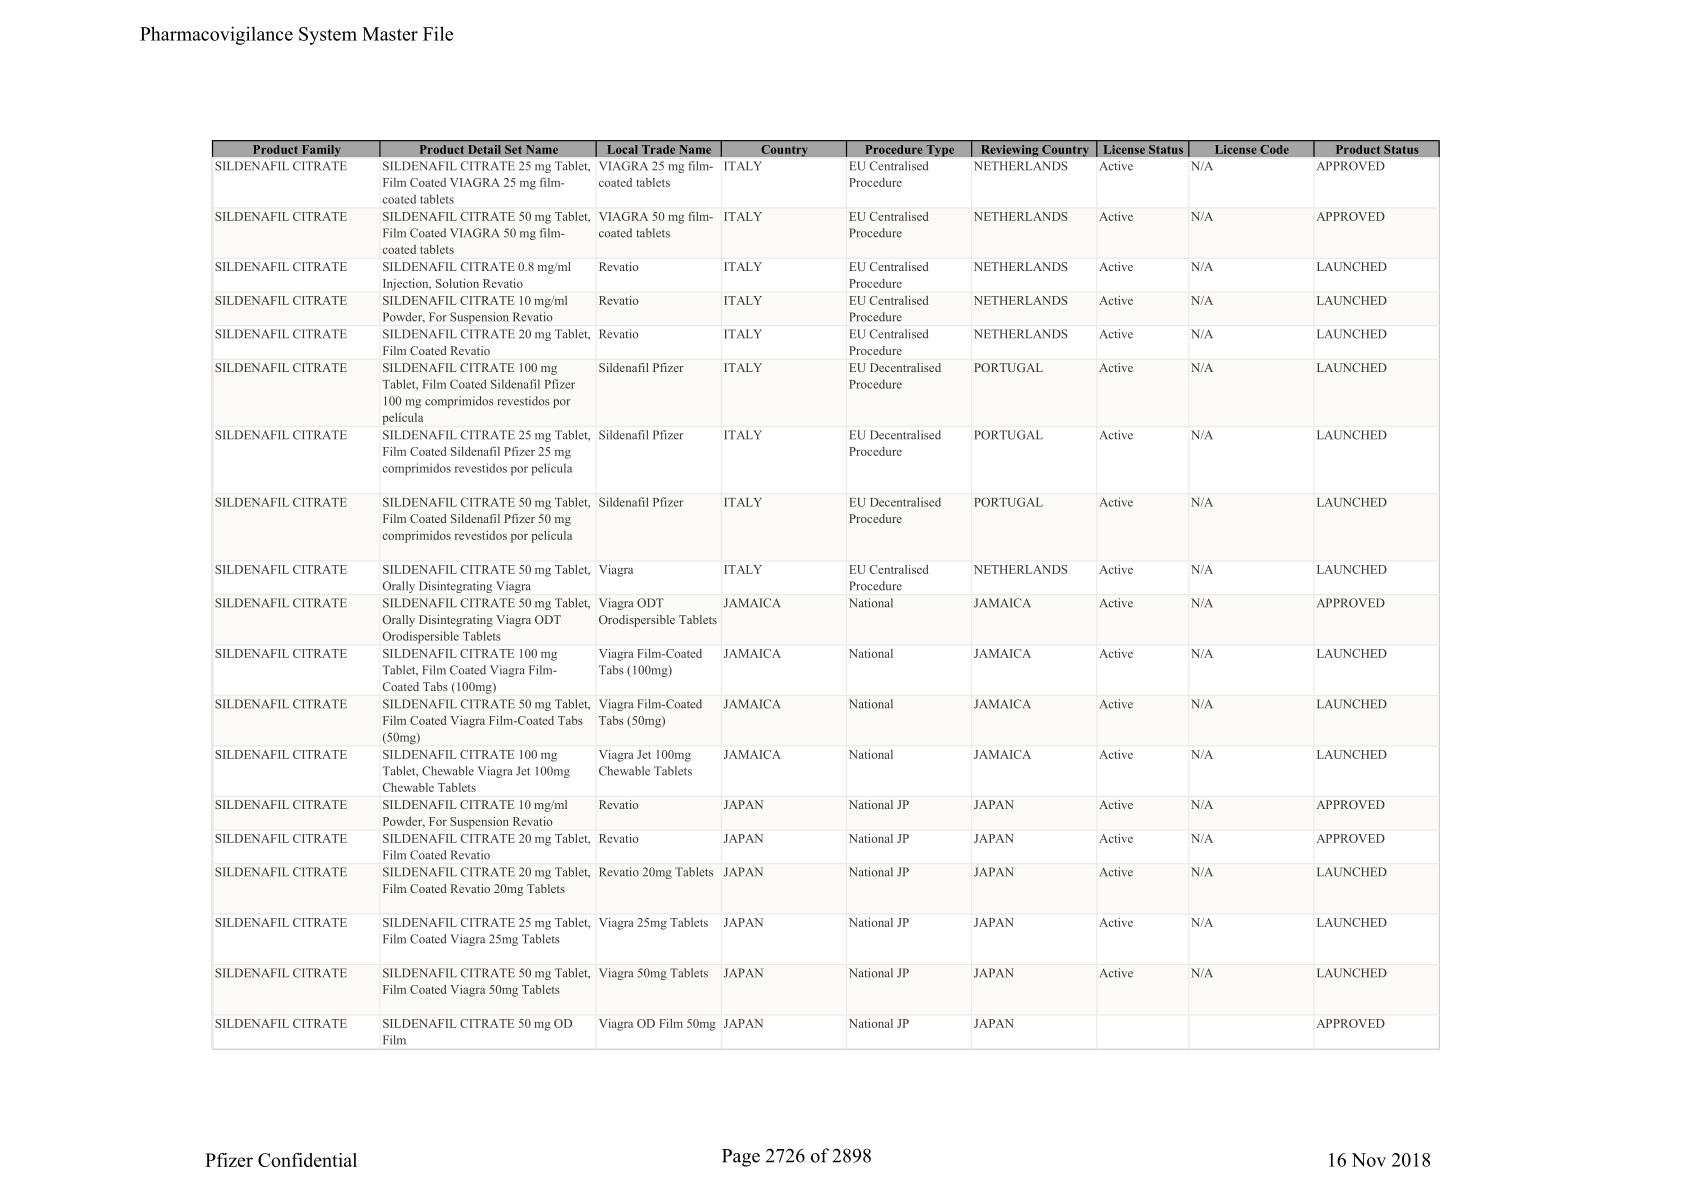full_lined: (210, 140, 1440, 1051)
